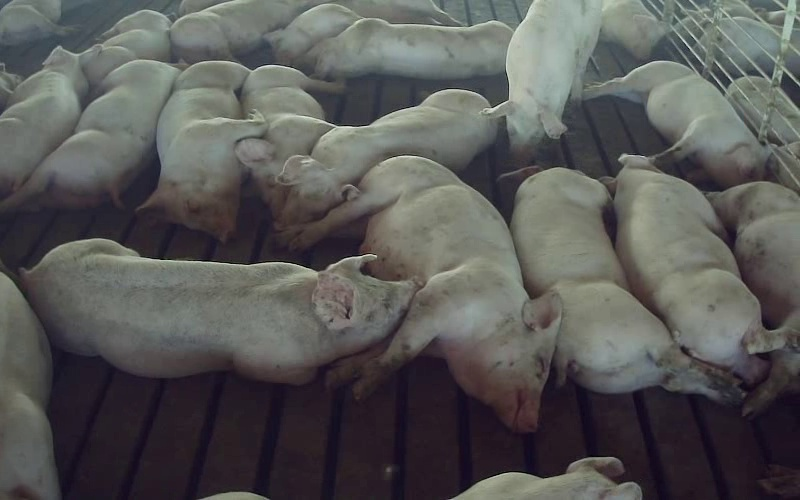pig: (500, 167, 743, 404), (21, 239, 415, 383), (601, 154, 784, 385), (276, 89, 497, 228), (0, 60, 179, 211), (584, 61, 768, 187), (138, 61, 266, 241), (235, 65, 342, 216), (0, 45, 100, 198), (707, 182, 799, 331), (309, 18, 512, 79), (170, 0, 325, 63), (83, 10, 171, 86)
